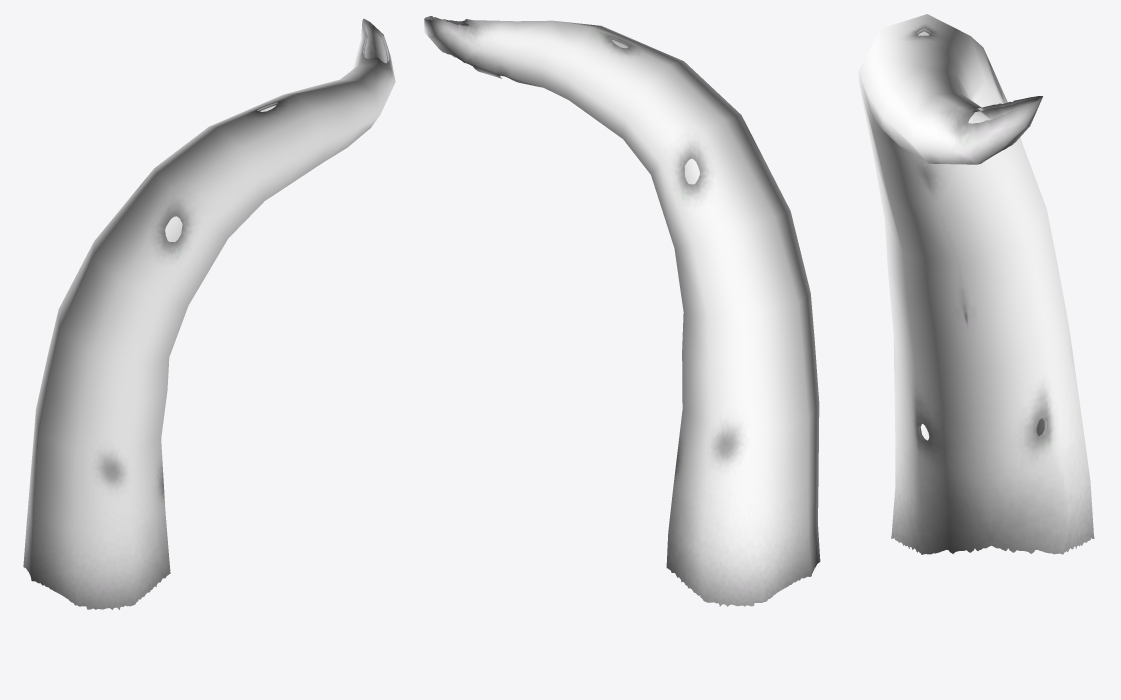
The model's file is etheriala2.obj.
3 views of the same model, side by side, from view 1: azimuth 30°, elevation 25°; view 2: azimuth 150°, elevation 25°; view 3: azimuth 270°, elevation 25° (orthographic). The views are drawn at different scales.
Parts seen in each view (by area): view 1: creature/voidetherealboss/voidetherealbosstentacle.m2_Geoset_000; view 2: creature/voidetherealboss/voidetherealbosstentacle.m2_Geoset_000; view 3: creature/voidetherealboss/voidetherealbosstentacle.m2_Geoset_000.
Boxes of the visible parts, x1,y1,x2,y2 form: creature/voidetherealboss/voidetherealbosstentacle.m2_Geoset_000: [23, 19, 395, 609]; creature/voidetherealboss/voidetherealbosstentacle.m2_Geoset_000: [424, 16, 820, 606]; creature/voidetherealboss/voidetherealbosstentacle.m2_Geoset_000: [858, 14, 1094, 554].
Size of the model in its own units: 7.54 by 10.75 by 3.3.
Materials: 1 (1 with a texture image).
